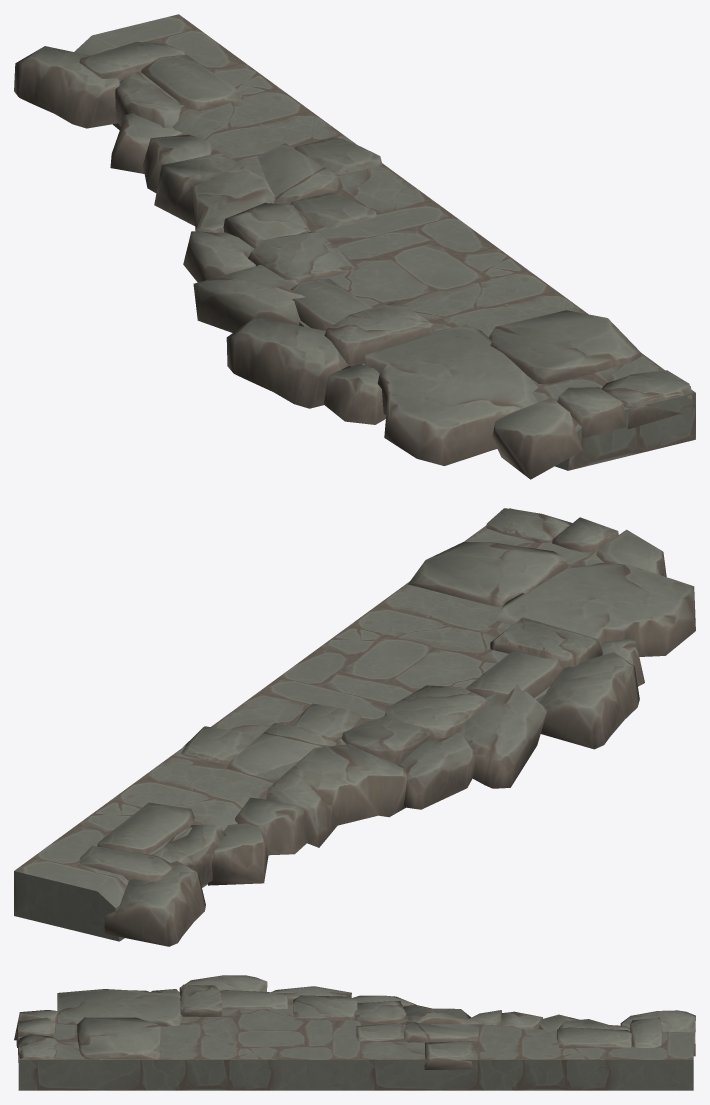
Rendered from SM_FW01_Ruins_Int_Floor_2x4_Brkn_01.fbx.
3 renders of one model, top to bottom at view 1: azimuth 30°, elevation 25°; view 2: azimuth 150°, elevation 25°; view 3: azimuth 270°, elevation 25°, orthographic. The views are drawn at different scales.
Parts seen in each view (by area): view 1: SM_FW01_Ruins_Int_Floor_2x4_Brkn_01_LOD0, SM_FW01_Ruins_Int_Floor_2x4_Brkn_01; view 2: SM_FW01_Ruins_Int_Floor_2x4_Brkn_01_LOD0, SM_FW01_Ruins_Int_Floor_2x4_Brkn_01; view 3: SM_FW01_Ruins_Int_Floor_2x4_Brkn_01, SM_FW01_Ruins_Int_Floor_2x4_Brkn_01_LOD0.
Boxes of the visible parts, <box> form: SM_FW01_Ruins_Int_Floor_2x4_Brkn_01_LOD0: <box>14,42,692,479</box>; SM_FW01_Ruins_Int_Floor_2x4_Brkn_01: <box>74,14,695,470</box>; SM_FW01_Ruins_Int_Floor_2x4_Brkn_01_LOD0: <box>79,508,695,946</box>; SM_FW01_Ruins_Int_Floor_2x4_Brkn_01: <box>14,508,603,941</box>; SM_FW01_Ruins_Int_Floor_2x4_Brkn_01: <box>18,1004,693,1090</box>; SM_FW01_Ruins_Int_Floor_2x4_Brkn_01_LOD0: <box>14,975,695,1069</box>.
Size of what is drawn, in the model's own units: 1.26 by 0.2622 by 4.04.
